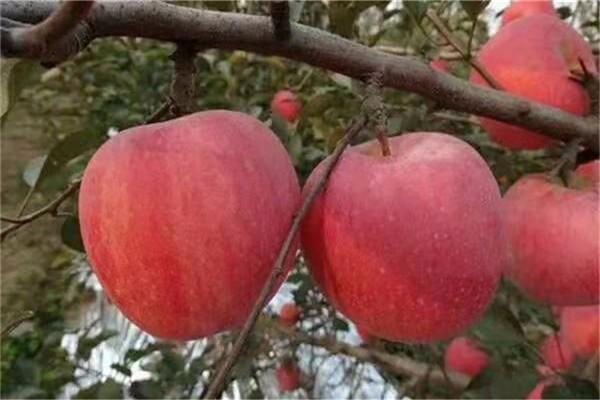apple: (76, 108, 303, 340), (306, 132, 500, 345), (469, 12, 597, 149), (500, 160, 600, 305)
